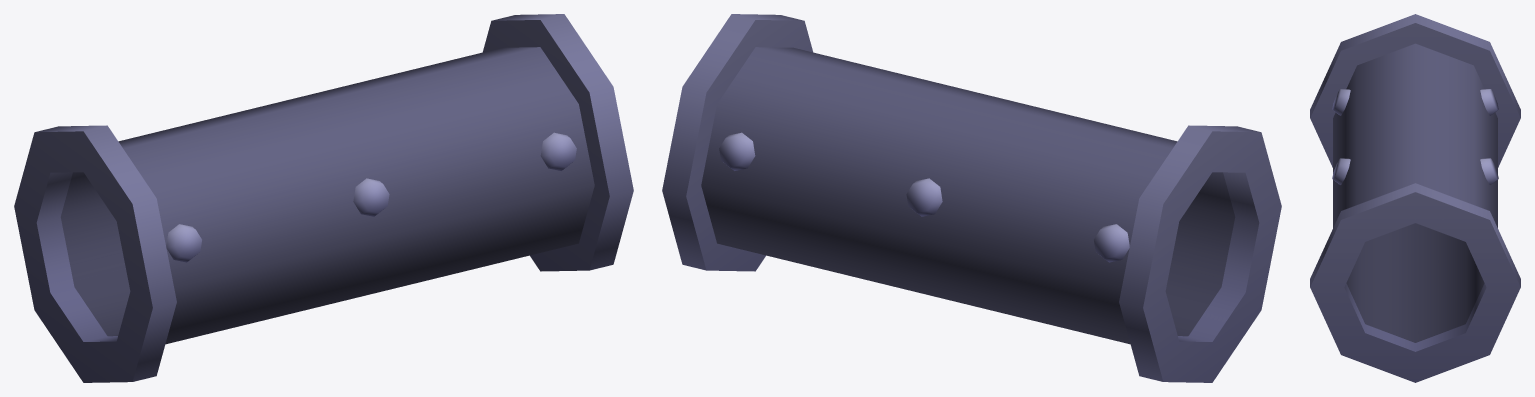
The model's file is kenney-factory-pipe-large-long.glb.
3 renders of one model, left to right at view 1: azimuth 30°, elevation 25°; view 2: azimuth 150°, elevation 25°; view 3: azimuth 270°, elevation 25°, orthographic. The views are drawn at different scales.
Parts seen in each view (by area): view 1: pipe-large-long; view 2: pipe-large-long; view 3: pipe-large-long.
Part boxes in pixels (x1=…): pipe-large-long: x1=14, y1=14, x2=633, y2=382; pipe-large-long: x1=662, y1=14, x2=1281, y2=382; pipe-large-long: x1=1310, y1=14, x2=1520, y2=382.
Size of the model in its own units: 3 by 1.5 by 1.5.
1 material, 1 textured.
